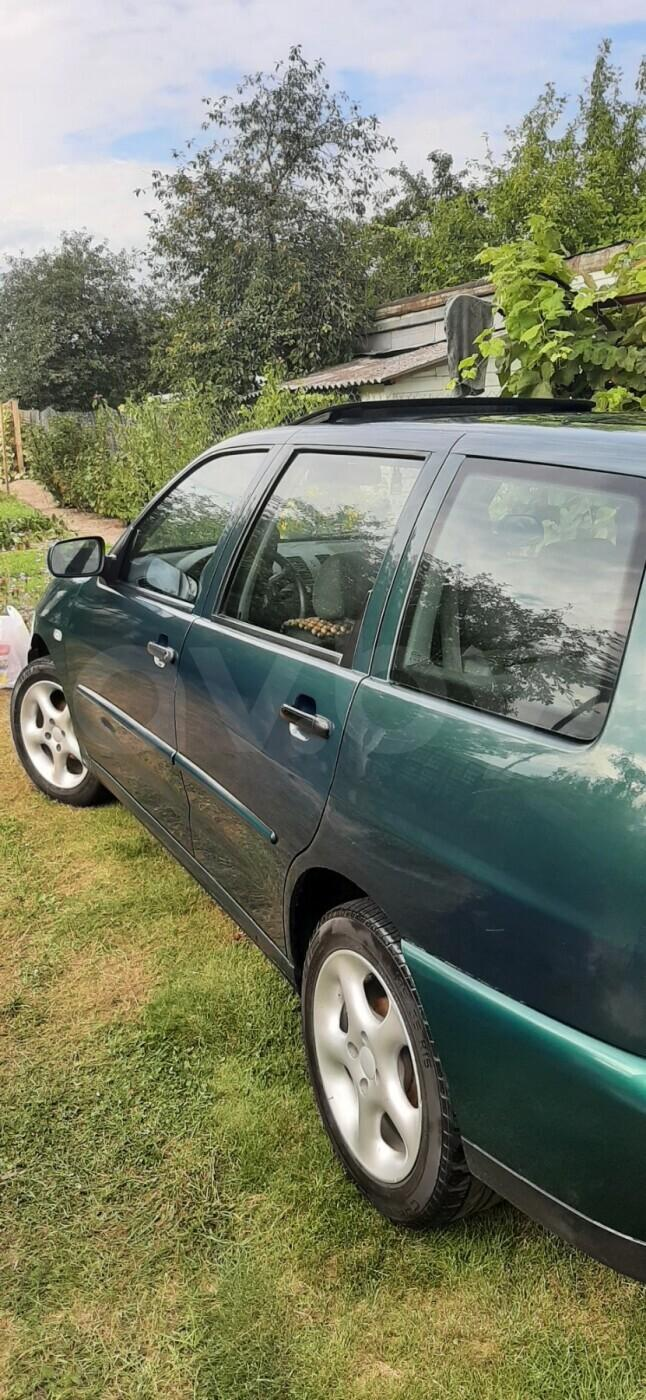Polo_1994-2002: (0, 417, 645, 1268)
